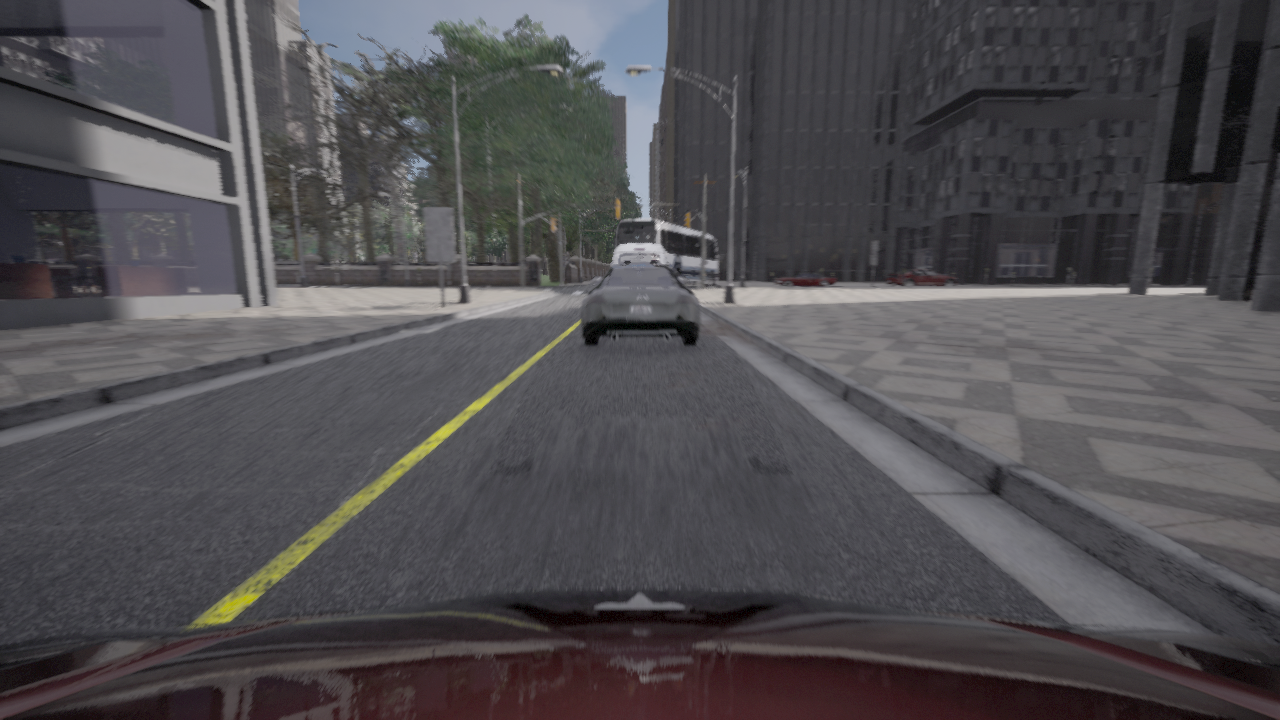cyclist: (0, 588, 1279, 719), (581, 264, 700, 345), (615, 218, 723, 287), (611, 244, 668, 266), (886, 269, 957, 286), (773, 273, 836, 286)
